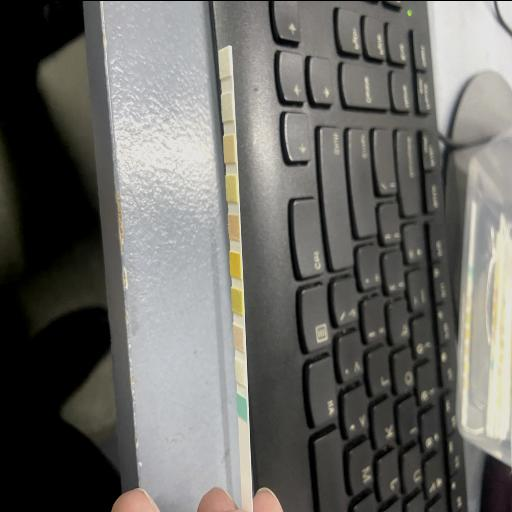Bilirubin: (236, 363, 244, 378)
Blood: (230, 255, 240, 273)
Glucose: (238, 400, 246, 412)
Ketone: (234, 328, 244, 346)
Leukocytes: (220, 51, 229, 71)
Nitrite: (222, 96, 232, 115)
Protein: (227, 176, 235, 196)
SpGravity: (232, 292, 242, 310)
Urobilinogen: (224, 138, 234, 158)
pH: (230, 218, 239, 236)
strip: (219, 45, 252, 506)
